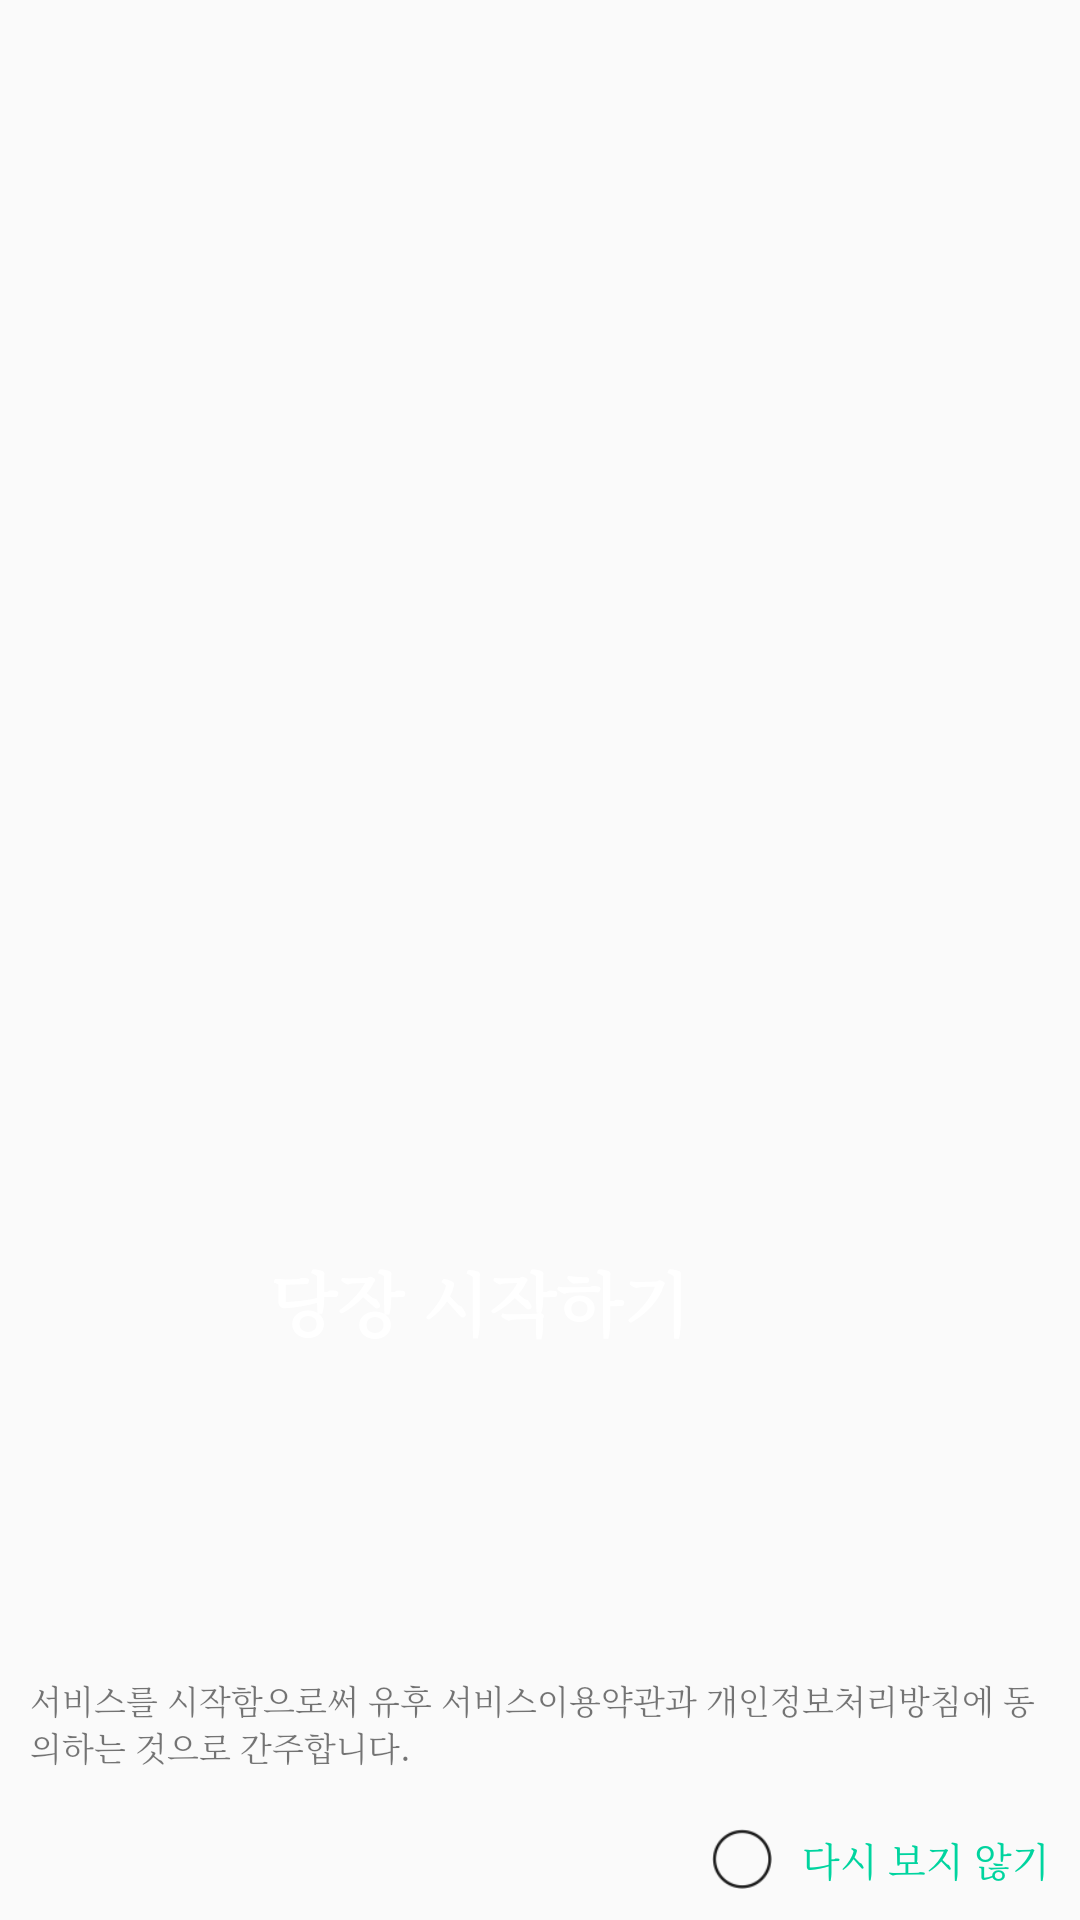

Locate icon controls on the screen. Image size 1080px x 1920px, boxes as box=[x1, y1, x2, y2].
select nor: box=[712, 1829, 772, 1889]
